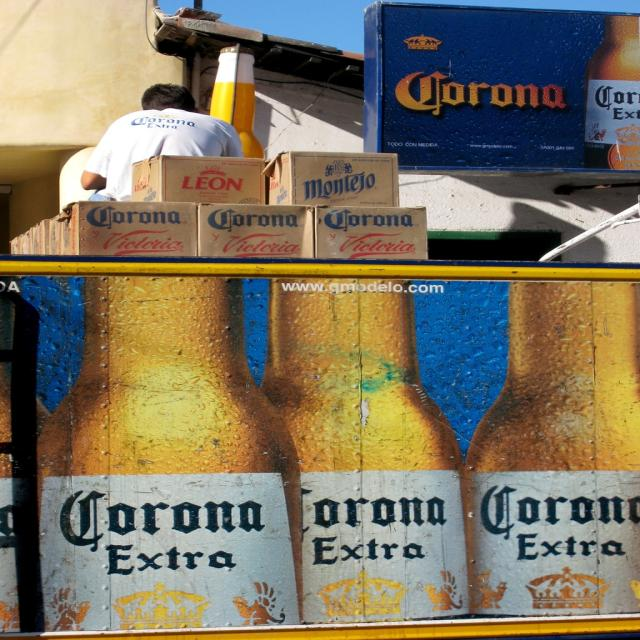corona: (39, 474, 302, 634), (301, 471, 470, 624), (467, 471, 640, 616), (584, 80, 640, 171)
